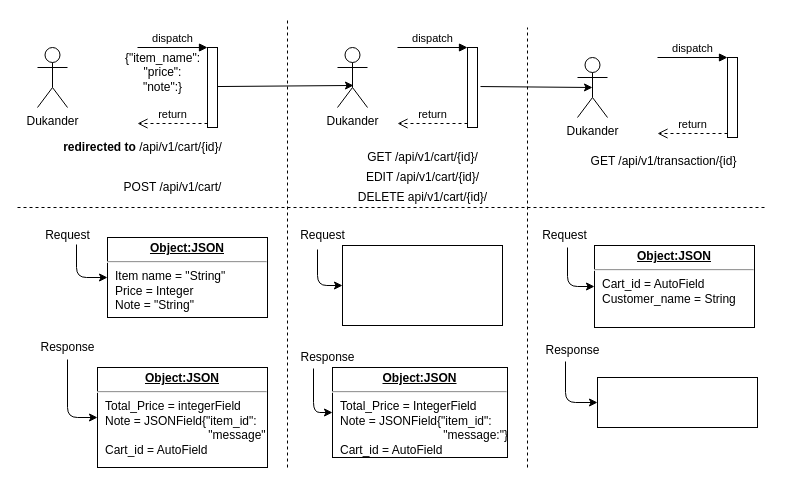
The diagram is 786 pixels wide and 486 high, and some of its shapes have lost their labels. Here are the shapes that lost their labels. From the top down, the box of each, then its label:
(342, 244, 502, 326): Object:JSON Item Name = "string" Price = integer Note = String
(596, 376, 758, 428): Object:JSON transaction_id = AutoField
